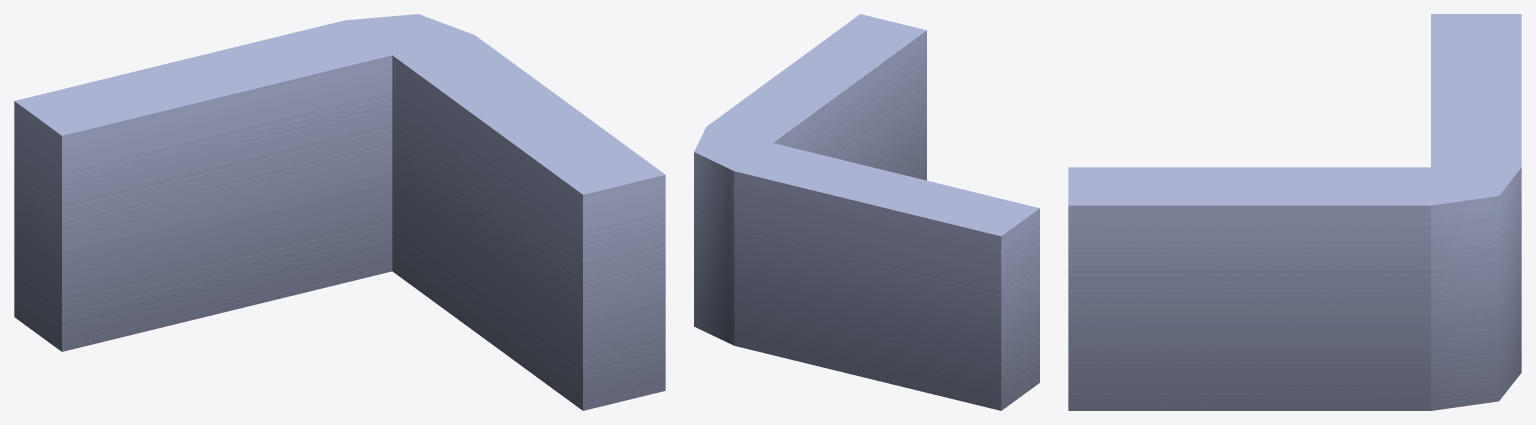
Rendered from wall-corner-rounded-low.glb.
3 views of the same model, side by side, from view 1: azimuth 30°, elevation 25°; view 2: azimuth 150°, elevation 25°; view 3: azimuth 270°, elevation 25° (orthographic). The views are drawn at different scales.
Parts seen in each view (by area): view 1: wall-corner-rounded-low; view 2: wall-corner-rounded-low; view 3: wall-corner-rounded-low.
Boxes of the visible parts, <box> form: wall-corner-rounded-low: <box>14,14,665,410</box>; wall-corner-rounded-low: <box>694,14,1039,410</box>; wall-corner-rounded-low: <box>1068,14,1521,410</box>.
Bounding box in the file's own units: 1 × 0.5 × 1.
Materials: 1 (1 with a texture image).
